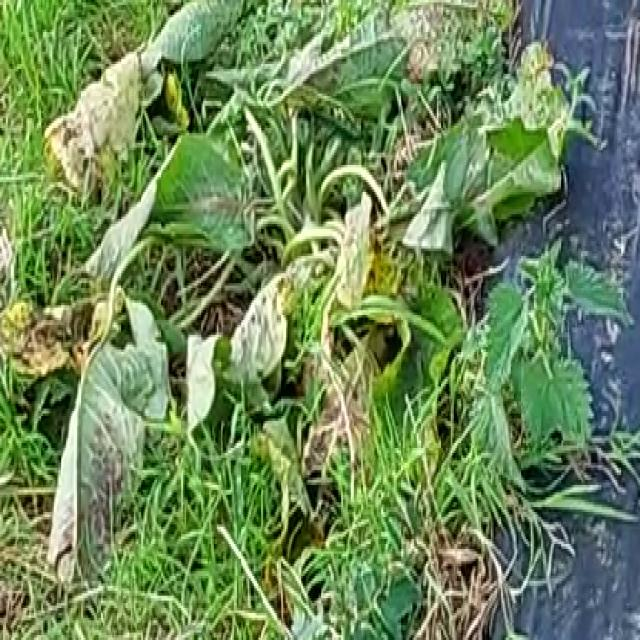organic waste: (37, 0, 565, 581)
